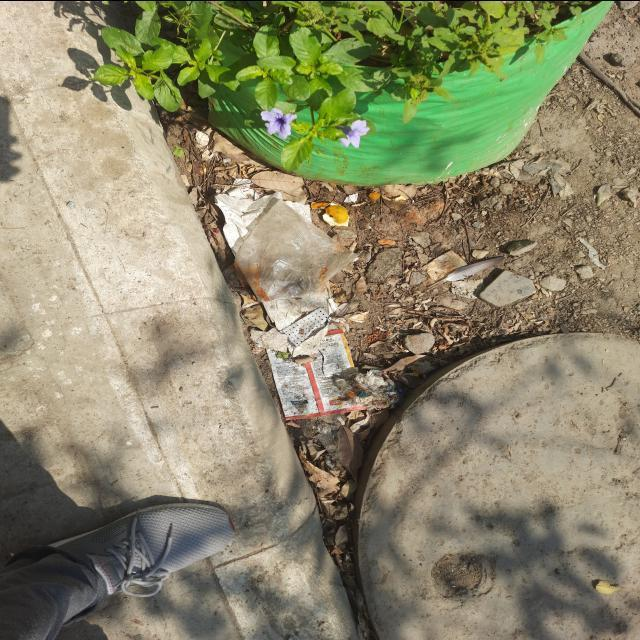Background: (2, 0, 358, 640), (358, 332, 637, 640), (297, 0, 612, 184), (210, 84, 285, 165)
Garbage: (168, 122, 602, 640)
Plastic_Bag: (215, 192, 357, 329)
Plastic_wraper: (267, 330, 367, 419)
